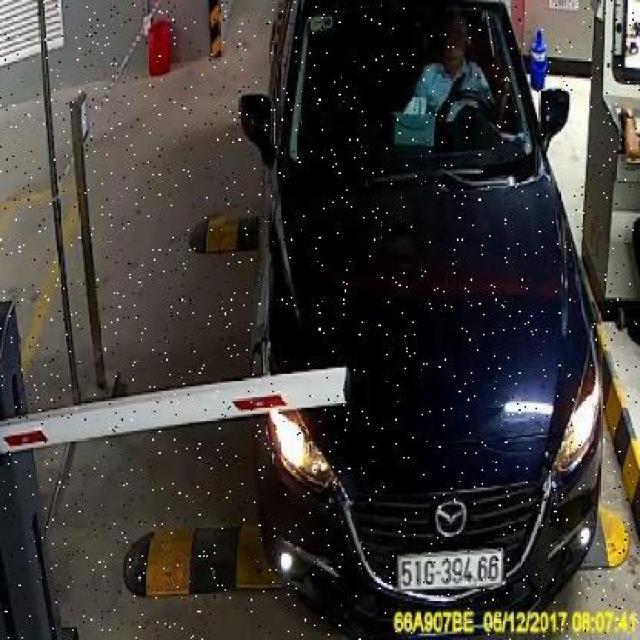number_plate: (394, 543, 506, 589)
